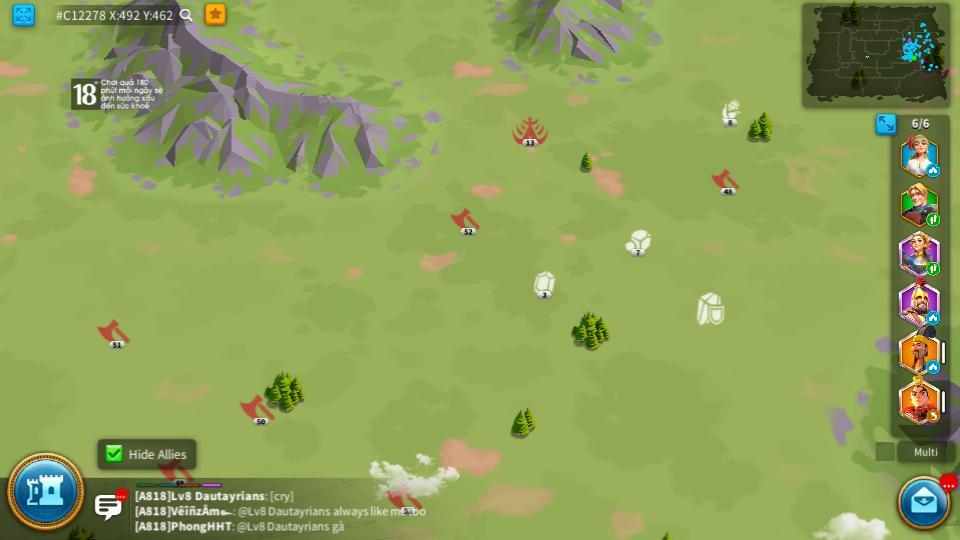gem-z-out: (533, 272, 556, 298)
march_idle: (926, 165, 941, 176), (927, 312, 940, 324), (927, 362, 940, 373)
march_marching: (925, 263, 938, 275), (927, 215, 940, 226)
march_returning: (926, 410, 940, 422)
